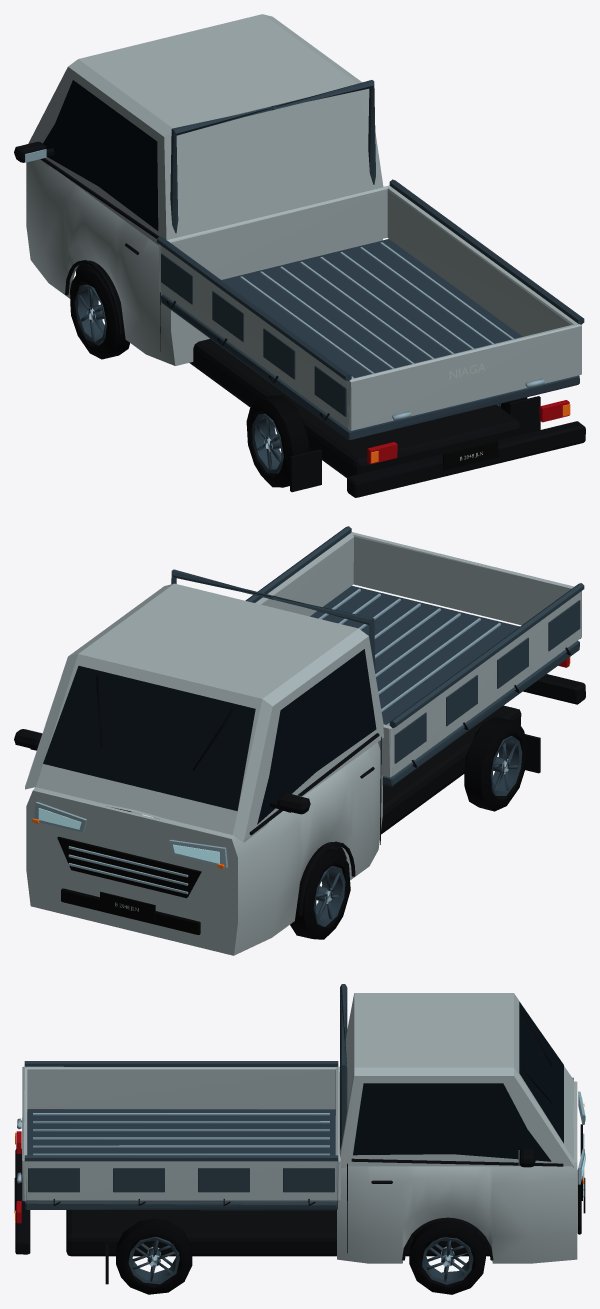
The model's file is Body_LOD1.fbx.
3 renders of one model, top to bottom at view 1: azimuth 30°, elevation 25°; view 2: azimuth 150°, elevation 25°; view 3: azimuth 270°, elevation 25°, orthographic. The views are drawn at different scales.
Parts seen in each view (by area): view 1: Body_Mesh, Wheel_RL_Mesh, Wheel_FL_Mesh, TailLights_Mesh; view 2: Body_Mesh, Wheel_RL_Mesh, Wheel_FL_Mesh, Headlights_Mesh; view 3: Body_Mesh, Wheel_RR_Mesh, Wheel_FR_Mesh.
Boxes of the visible parts, x1=… form: Body_Mesh: x1=14, y1=14, x2=585, y2=497; Wheel_RL_Mesh: x1=246, y1=395, x2=310, y2=487; Wheel_FL_Mesh: x1=70, y1=265, x2=129, y2=359; TailLights_Mesh: x1=367, y1=400, x2=569, y2=464; Body_Mesh: x1=14, y1=526, x2=585, y2=955; Wheel_RL_Mesh: x1=464, y1=717, x2=527, y2=811; Wheel_FL_Mesh: x1=290, y1=846, x2=350, y2=939; Headlights_Mesh: x1=34, y1=801, x2=227, y2=868; Body_Mesh: x1=14, y1=984, x2=585, y2=1284; Wheel_RR_Mesh: x1=116, y1=1218, x2=192, y2=1294; Wheel_FR_Mesh: x1=409, y1=1218, x2=485, y2=1294.
Bounding box in the file's own units: 210 × 185 × 430.
